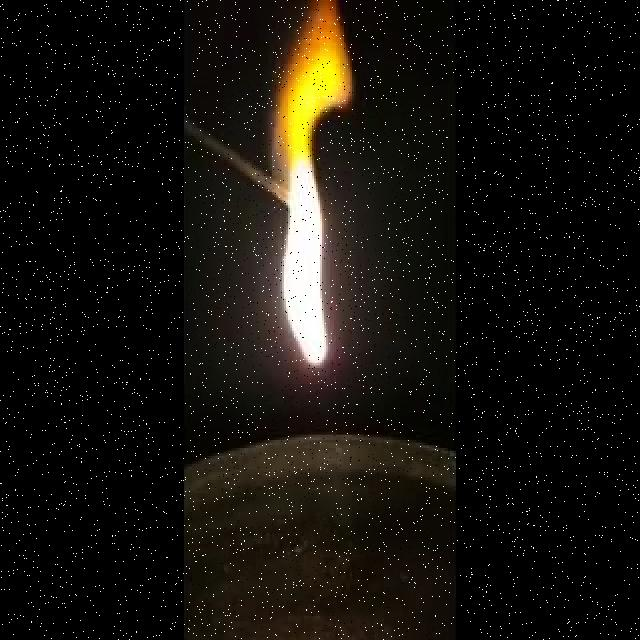fire: (276, 8, 351, 370)
